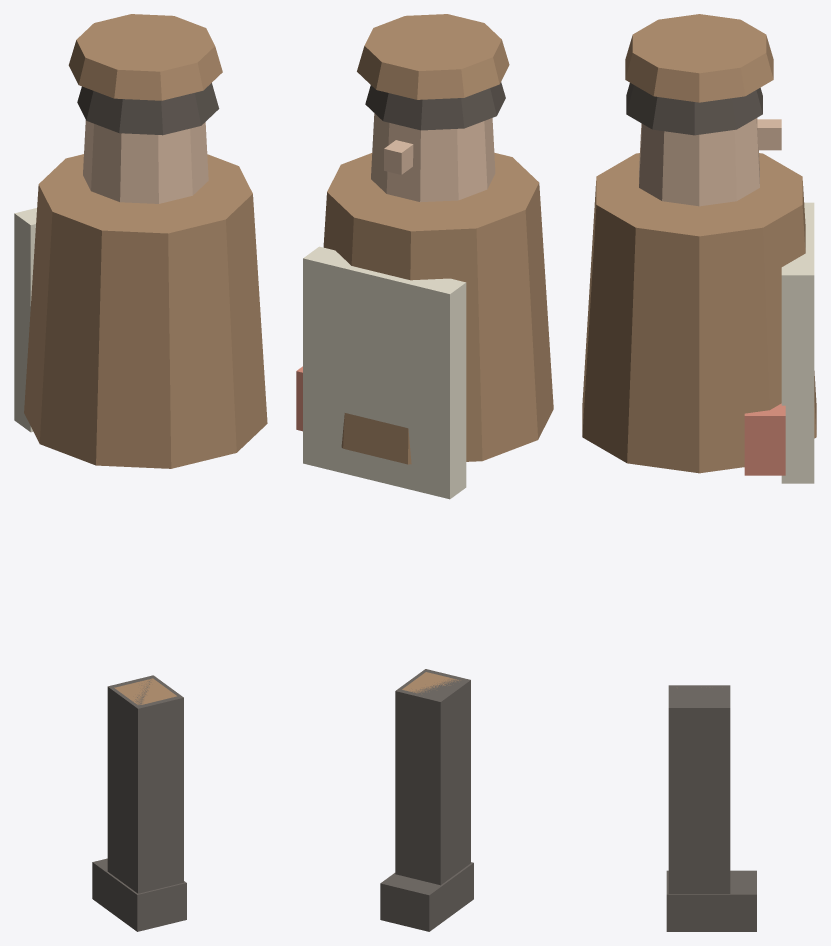
The model's file is npc_oswin.glb.
3 renders of one model, left to right at view 1: azimuth 30°, elevation 25°; view 2: azimuth 150°, elevation 25°; view 3: azimuth 270°, elevation 25°, orthographic.
Visible parts, largest first — view 1: Torso, LimbLegL, HatCap, Head, Hair, BootL, Apron, LimbArmL; view 2: Torso, Apron, LimbLegL, HatCap, Head, BootL, Hair, Nose, LimbArmL; view 3: Torso, LimbLegL, HatCap, Head, Apron, Hair, BootL, PropPouch, Nose.
Boxes of the visible parts, box(x1,y1,x2,y2) form: Torso: box(24, 154, 267, 468); LimbLegL: box(107, 675, 183, 893); HatCap: box(68, 14, 222, 100); Head: box(83, 120, 208, 203); Hair: box(77, 83, 219, 135); BootL: box(92, 858, 186, 931); Apron: box(14, 208, 36, 432); LimbArmL: box(114, 678, 176, 704); Torso: box(323, 152, 553, 464); Apron: box(303, 246, 466, 499); LimbLegL: box(395, 669, 470, 885); HatCap: box(357, 14, 509, 99); Head: box(371, 113, 495, 202); BootL: box(380, 862, 473, 931); Hair: box(365, 82, 505, 130); Nose: box(384, 140, 413, 174); LimbArmL: box(402, 672, 460, 693); Torso: box(582, 153, 816, 473); LimbLegL: box(668, 685, 730, 893); HatCap: box(625, 14, 773, 102); Head: box(639, 118, 759, 206); Apron: box(781, 202, 814, 483); Hair: box(626, 83, 762, 135); BootL: box(666, 870, 756, 931); PropPouch: box(744, 403, 785, 475); Nose: box(757, 119, 781, 150).
Size of the model in its own units: 0.6 by 2.36 by 0.5706.
